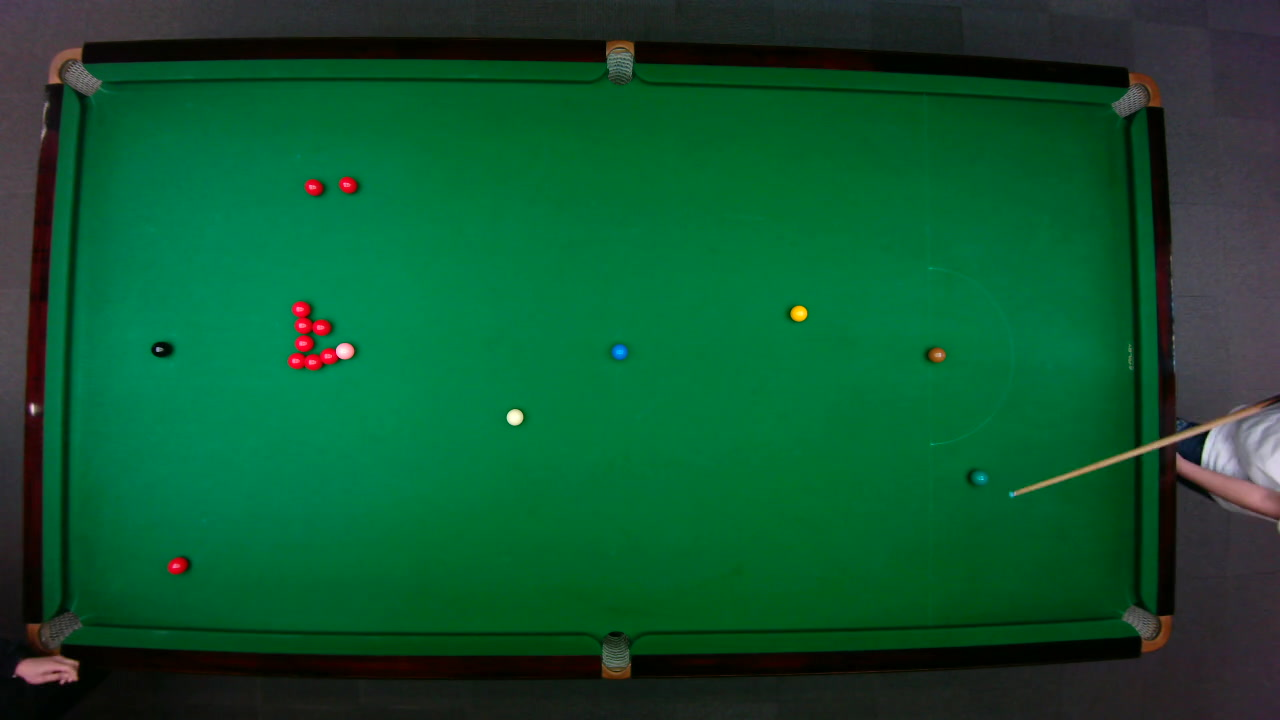bag: (45, 46, 102, 96), (25, 609, 83, 655), (1119, 603, 1172, 651), (1108, 71, 1161, 118), (600, 629, 629, 680), (605, 38, 633, 85)
black: (149, 340, 171, 357)
blue: (609, 342, 628, 360)
brown: (926, 346, 946, 362)
cue: (1007, 396, 1280, 497)
green: (969, 468, 989, 486)
pink: (334, 341, 355, 360)
red: (165, 555, 189, 575), (302, 177, 324, 196), (310, 317, 331, 335), (302, 352, 323, 370), (290, 299, 311, 317), (337, 175, 358, 193), (293, 334, 313, 352), (286, 351, 305, 369), (319, 346, 337, 365), (292, 317, 312, 334)
white: (505, 407, 524, 426)
yellow: (788, 303, 808, 322)
zone: (926, 265, 1013, 445)
